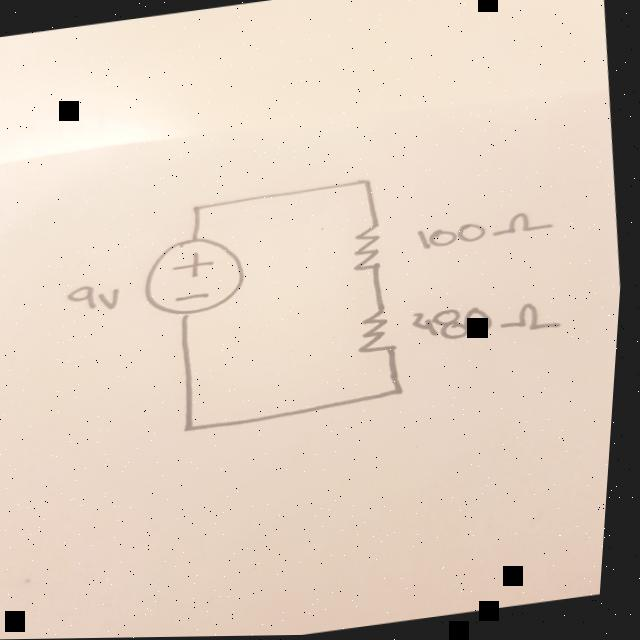junction: (185, 422, 205, 436), (192, 204, 206, 215), (360, 178, 375, 188), (397, 386, 409, 397)
resistor: (357, 308, 405, 356), (350, 225, 394, 274)
source: (139, 230, 257, 322)
text: (411, 290, 570, 350), (409, 205, 565, 255), (69, 279, 130, 318)
